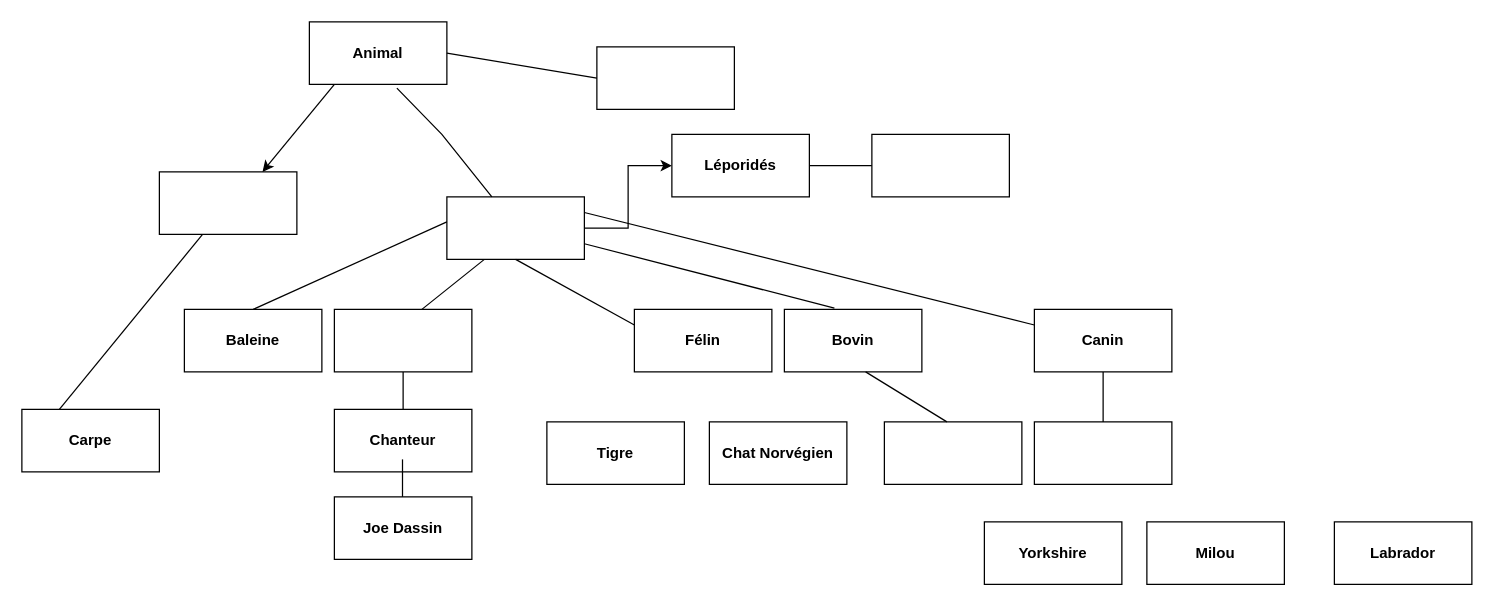
Some shapes in this 1494 by 606 pixel diagram are drawn without their labels. The centre of each missing label's shape, as x and y in pixels:
Chien: point 1102,452
humain: point 402,340
Lapin Lièvre: point 940,165
Mammifère: point 515,227
Oiseau: point 665,77
Poisson: point 227,202
Vache: point 952,452
